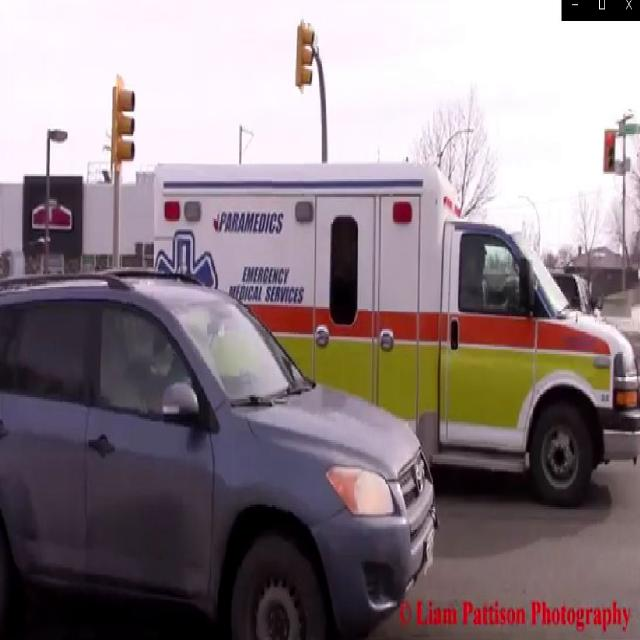emergency: (142, 161, 639, 506)
